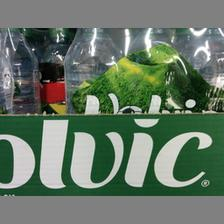Wasser: (62, 28, 122, 112), (121, 28, 178, 112), (174, 27, 222, 113), (0, 27, 40, 111)
